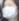with_mask: (1, 2, 19, 21)
